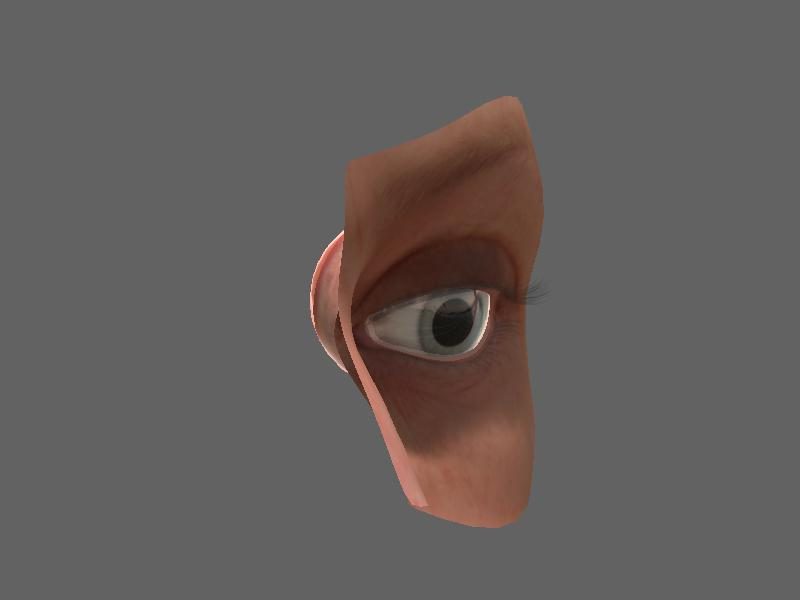iris: (424, 291, 491, 358)
